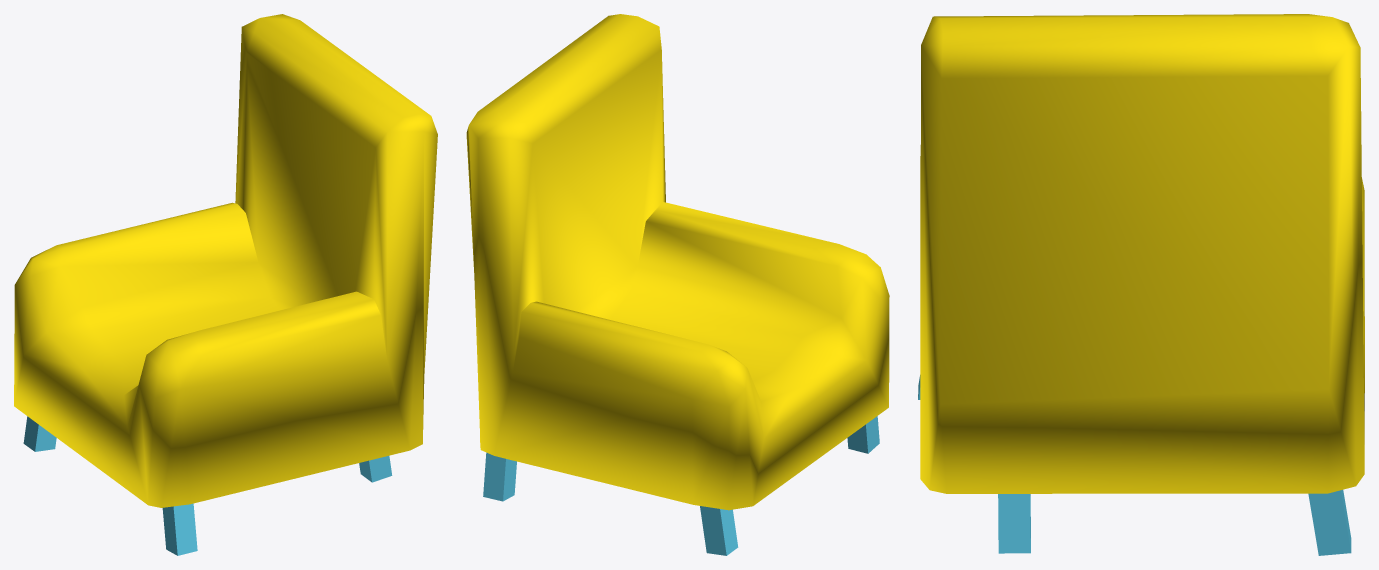
Rendered from s_koltuk.obj.
3 renders of one model, left to right at view 1: azimuth 30°, elevation 25°; view 2: azimuth 150°, elevation 25°; view 3: azimuth 270°, elevation 25°, orthographic. The views are drawn at different scales.
Parts seen in each view (by area): view 1: Cube.135_m_yellow, Cube.135_m_babyblue; view 2: Cube.135_m_yellow, Cube.135_m_babyblue; view 3: Cube.135_m_yellow, Cube.135_m_babyblue.
Part boxes in pixels (x1=…): Cube.135_m_yellow: x1=14, y1=14, x2=437, y2=507; Cube.135_m_babyblue: x1=23, y1=416, x2=392, y2=555; Cube.135_m_yellow: x1=466, y1=14, x2=889, y2=510; Cube.135_m_babyblue: x1=483, y1=416, x2=879, y2=555; Cube.135_m_yellow: x1=920, y1=14, x2=1364, y2=493; Cube.135_m_babyblue: x1=918, y1=375, x2=1351, y2=555.
Bounding box in the file's own units: 8.23 × 10.31 × 7.85.
